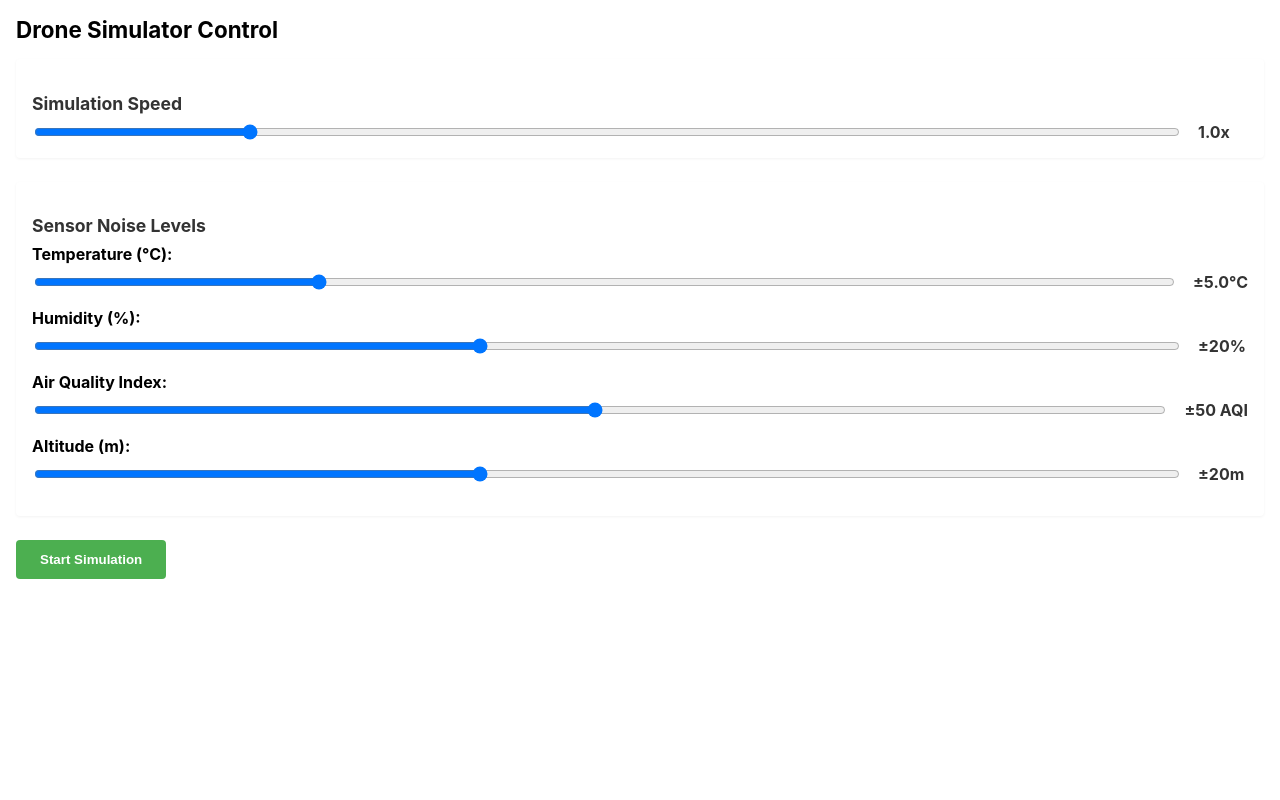
Test case: SimulatorControl Component › updates simulation speed when slider is changed
Note: Get the simulation speed slider and change its value
Set the slider next to "1.0" to "2.5" at (595, 132), box [34,124,1180,140]
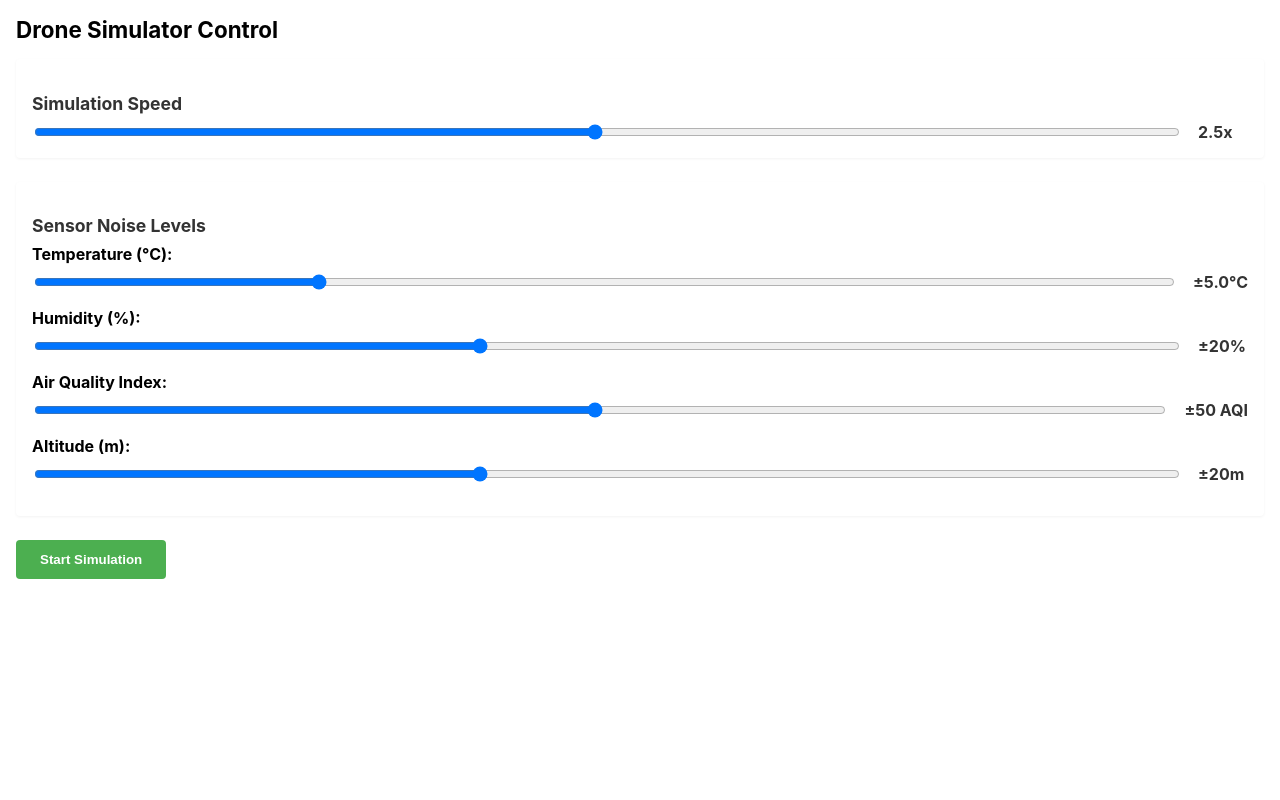
expect the text "2.5x" is shown: met, box [1198,122,1233,142]
